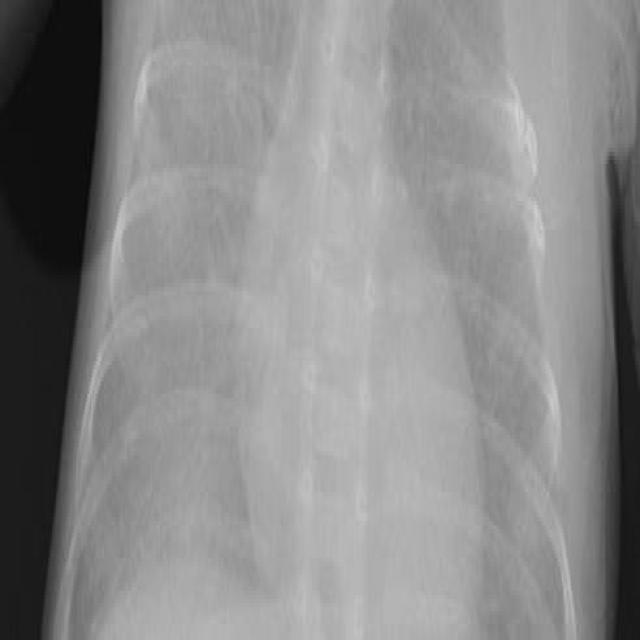high-pneumonia: (80, 1, 303, 611)
low-pneumonia: (402, 1, 542, 401)
